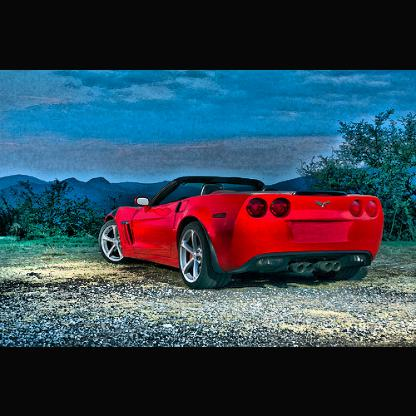Chevrolet Corvette Convertible 2012: (99, 176, 385, 290)
